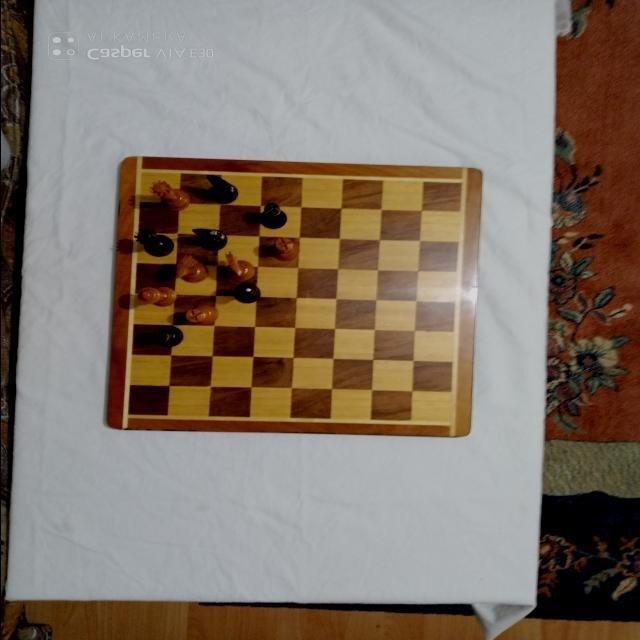black-king: (232, 282, 260, 304)
black-knight: (205, 174, 239, 204), (191, 228, 227, 252)
black-queen: (133, 227, 175, 257)
black-rook: (148, 325, 184, 347), (258, 203, 286, 229)
white-king: (137, 285, 175, 307)
white-knight: (174, 254, 208, 284), (222, 251, 254, 281)
white-queen: (148, 180, 190, 212)
white-rook: (182, 303, 217, 325), (272, 236, 300, 262)
